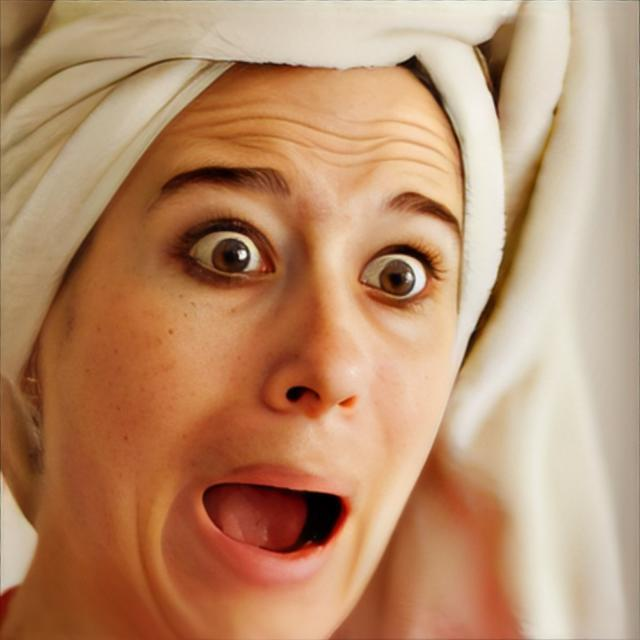fear: (42, 66, 466, 640)
